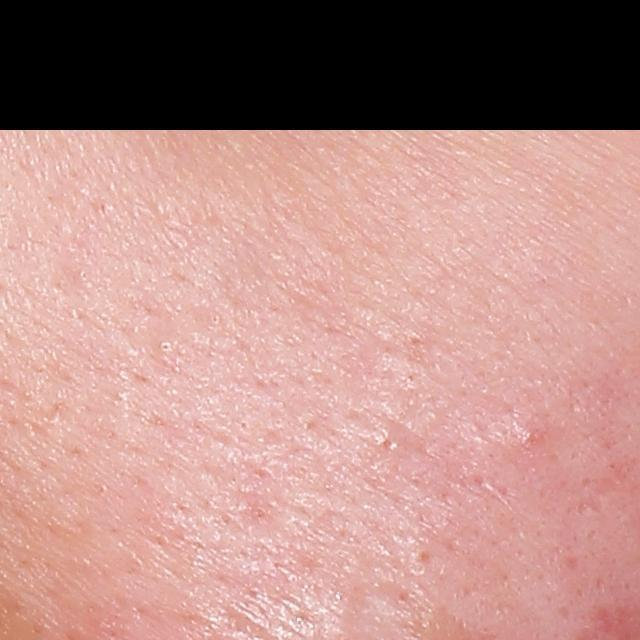comedo: (409, 546, 433, 566), (158, 339, 173, 354)
